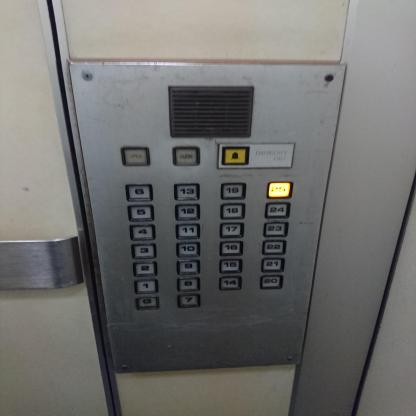1: (134, 279, 158, 294)
10: (176, 242, 200, 258)
11: (175, 223, 200, 240)
12: (175, 204, 200, 220)
13: (174, 183, 200, 201)
14: (218, 276, 242, 290)
15: (218, 259, 242, 273)
16: (219, 240, 243, 256)
17: (219, 222, 244, 238)
18: (220, 203, 245, 219)
19: (220, 182, 246, 200)
2: (132, 260, 158, 276)
20: (260, 275, 283, 289)
21: (261, 258, 285, 272)
22: (262, 240, 286, 255)
23: (263, 221, 289, 237)
24: (264, 202, 290, 218)
3: (130, 242, 157, 260)
4: (129, 224, 155, 241)
5: (127, 204, 154, 222)
6: (125, 184, 153, 202)
7: (177, 293, 200, 308)
8: (177, 277, 200, 292)
9: (176, 259, 200, 275)
G: (136, 296, 160, 310)
alarm: (221, 146, 250, 166)
blur: (266, 181, 293, 199)
text_close door: (172, 146, 200, 166)
text_open door: (121, 147, 150, 166)
